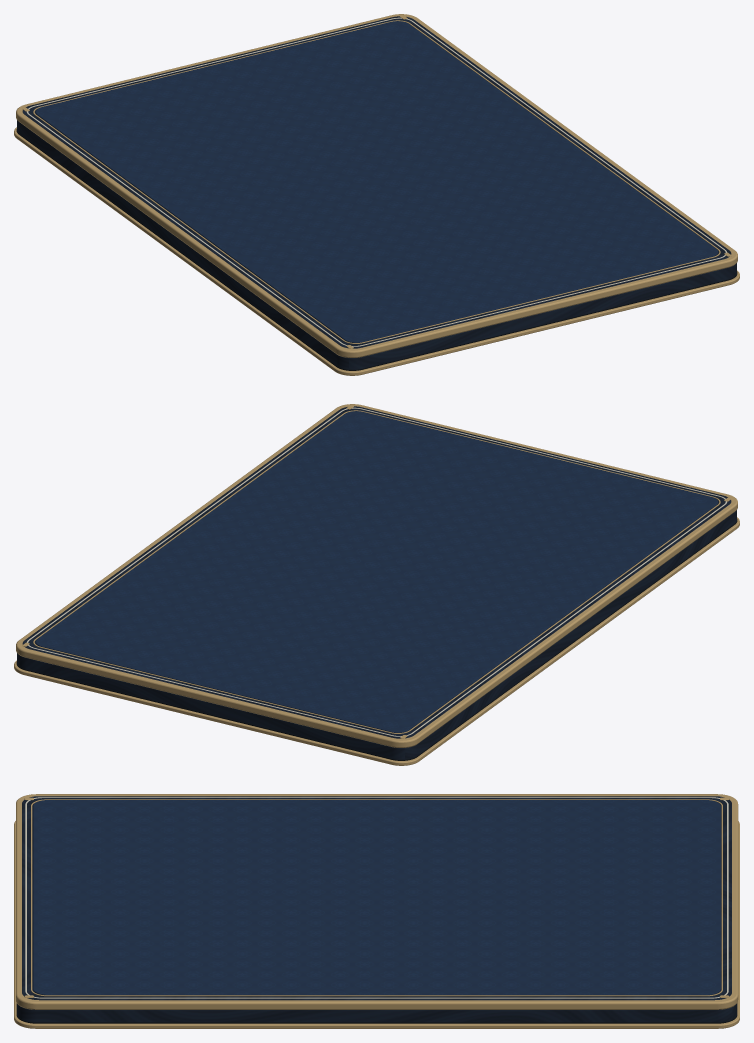
The model's file is deck-place.glb.
3 views of the same model, one above another, from view 1: azimuth 30°, elevation 25°; view 2: azimuth 150°, elevation 25°; view 3: azimuth 270°, elevation 25° (orthographic). The views are drawn at different scales.
Parts seen in each view (by area): view 1: 02 Woven navy contact surface, 03 Satin champagne brass, 01 Ink navy stained wood, 04 Warm silver pinstripe, 05 Graphite contact foot; view 2: 02 Woven navy contact surface, 03 Satin champagne brass, 01 Ink navy stained wood, 04 Warm silver pinstripe, 05 Graphite contact foot; view 3: 02 Woven navy contact surface, 03 Satin champagne brass, 01 Ink navy stained wood, 04 Warm silver pinstripe, 05 Graphite contact foot.
Boxes of the visible parts, x1,y1,x2,y2 form: 02 Woven navy contact surface: [35, 21, 718, 342]; 03 Satin champagne brass: [14, 14, 739, 375]; 01 Ink navy stained wood: [17, 16, 736, 369]; 04 Warm silver pinstripe: [26, 17, 727, 346]; 05 Graphite contact foot: [16, 129, 737, 370]; 02 Woven navy contact surface: [35, 411, 718, 732]; 03 Satin champagne brass: [14, 404, 739, 765]; 01 Ink navy stained wood: [17, 406, 736, 759]; 04 Warm silver pinstripe: [26, 407, 727, 736]; 05 Graphite contact foot: [16, 519, 737, 760]; 02 Woven navy contact surface: [33, 800, 720, 995]; 03 Satin champagne brass: [14, 794, 739, 1028]; 01 Ink navy stained wood: [17, 796, 736, 1022]; 04 Warm silver pinstripe: [25, 797, 728, 998]; 05 Graphite contact foot: [16, 1003, 737, 1023].
Size of the model in its own units: 0.136 by 0.0088 by 0.198.
5 materials, 2 textured.
